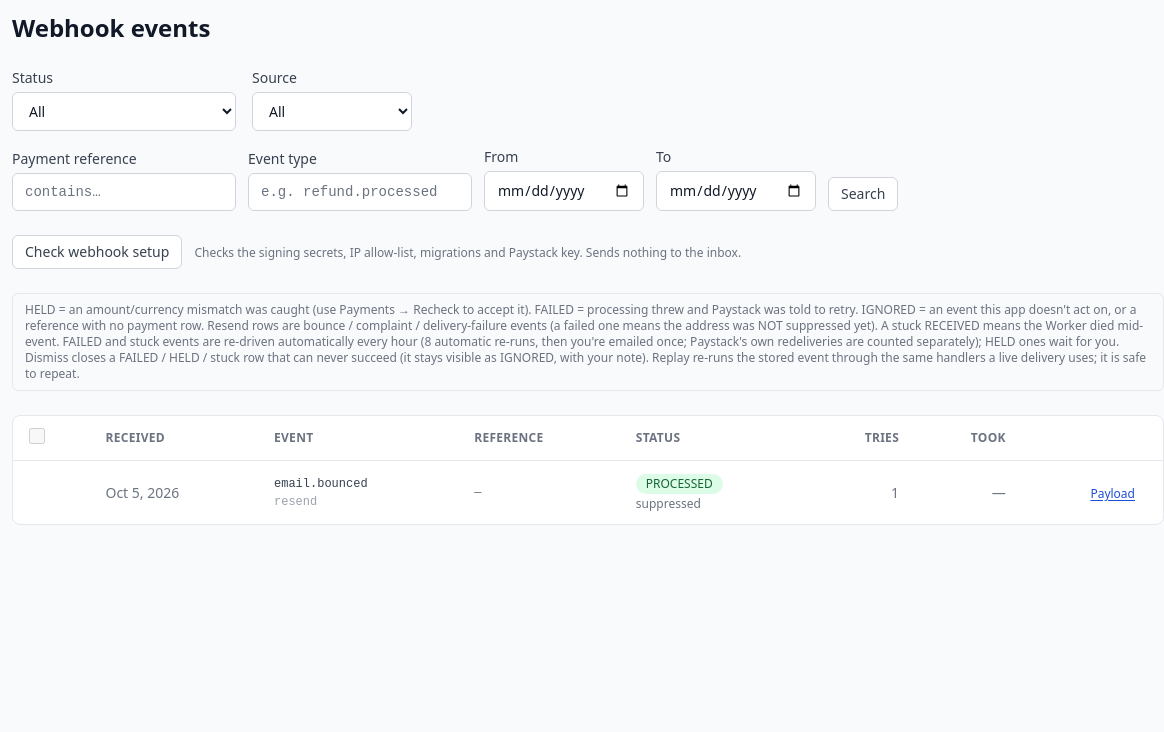
AdminWebhooks — round 25 › says no payload is stored instead of showing {}
Click the button "Payload" at x=1113, y=494, box x1=1090 y1=486 x2=1135 y2=502
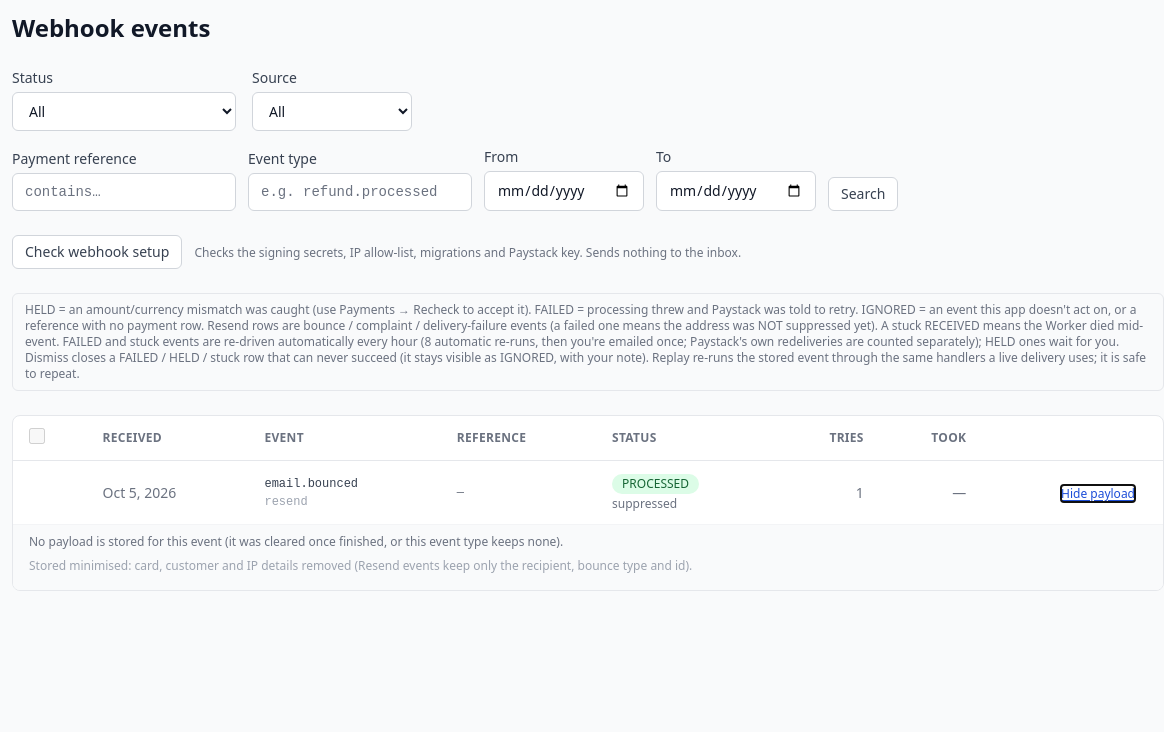
Expected: the text "No payload is stored for this event" is shown, x1=29 y1=533 x2=563 y2=550
